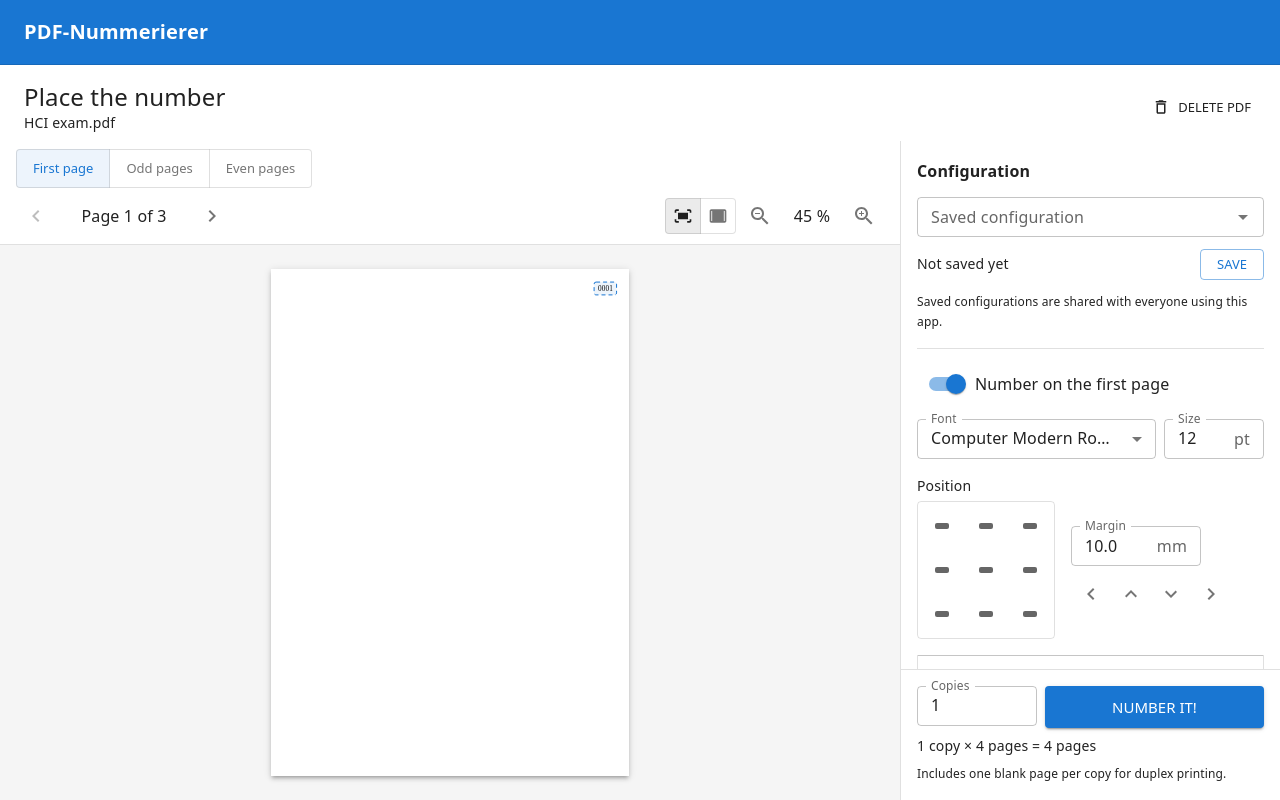
Test case: Number it! › shows why the server refused to start (409)
Expected: the text "HCI exam.pdf" is shown, [24, 113, 115, 132]
What coordinates should you click on to do the following:
click the button "Number it!"
I would click on:
 (1154, 707)
Its box is [1045, 686, 1264, 728].
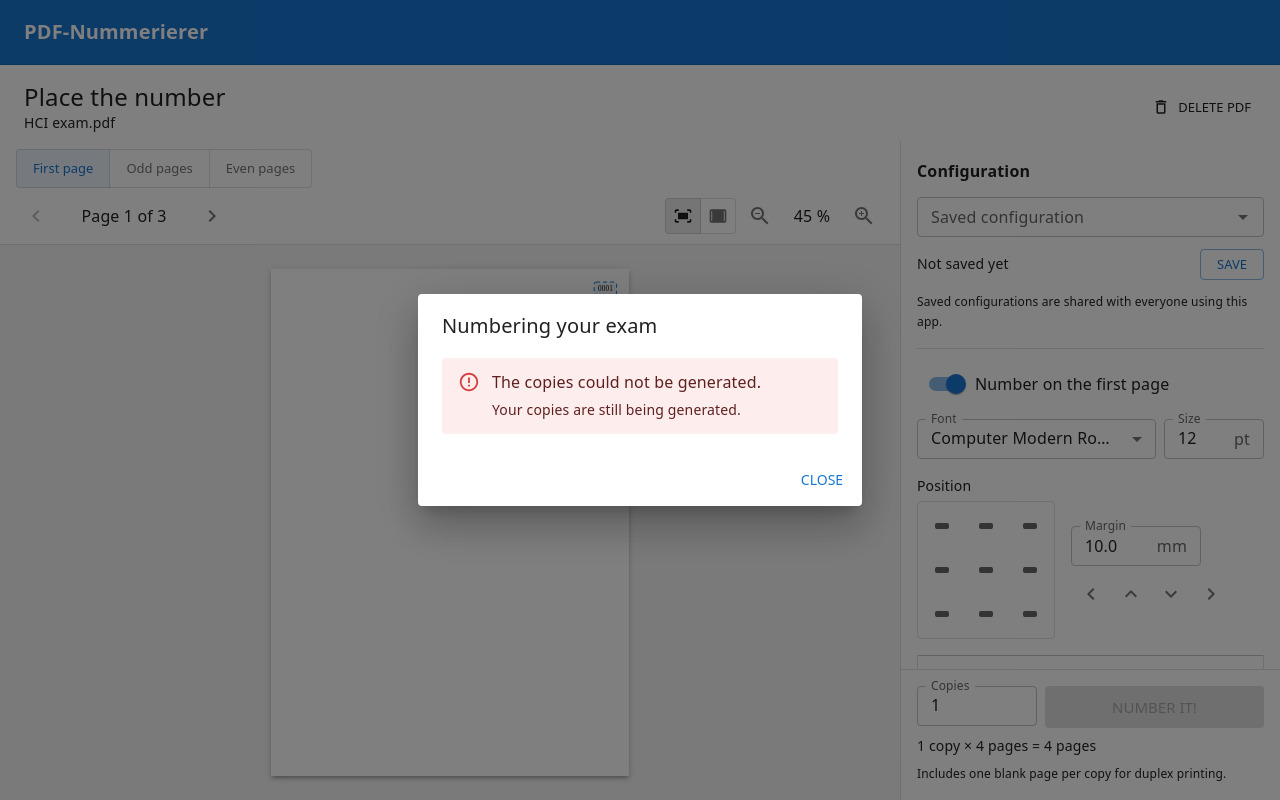
Expected: the text "Your copies are still being generated." is shown, [492, 400, 761, 420]
